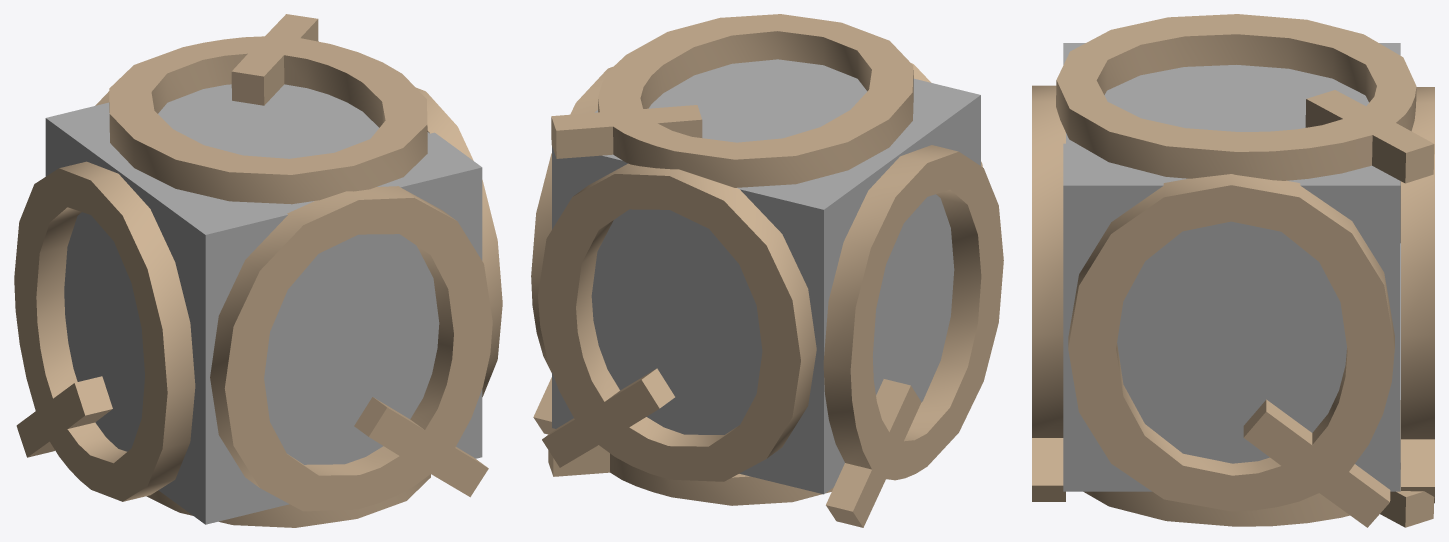
Rendered from LetterQ.fbx.
The picture shows the model from 3 angles, left to right: view 1: azimuth 30°, elevation 25°; view 2: azimuth 150°, elevation 25°; view 3: azimuth 270°, elevation 25°; orthographic projection. The views are drawn at different scales.
Visible parts, largest first — view 1: Box, Text Front, Text Left, Text Top, Text Right, Text Bottom; view 2: Box, Text Back, Text Left, Text Top, Text Bottom, Text Right; view 3: Box, Text Right, Text Top, Text Front, Text Back, Text Bottom.
Part boxes in pixels (box(x1,y1,x2,y2)): Box: box(45, 84, 482, 524); Text Front: box(210, 186, 492, 511); Text Left: box(14, 161, 195, 501); Text Top: box(109, 14, 427, 204); Text Right: box(416, 87, 502, 396); Text Bottom: box(146, 474, 430, 527); Box: box(552, 59, 980, 494); Text Back: box(538, 163, 816, 481); Text Left: box(823, 145, 1003, 527); Text Top: box(551, 14, 913, 187); Text Bottom: box(548, 434, 833, 505); Text Right: box(531, 67, 612, 434); Box: box(1063, 43, 1400, 491); Text Right: box(1068, 174, 1394, 527); Text Top: box(1056, 14, 1434, 183); Text Front: box(1032, 85, 1065, 501); Text Back: box(1401, 87, 1434, 503); Text Bottom: box(1083, 400, 1434, 527).
Size of the model in its own units: 1.2 by 1.24 by 1.19.
